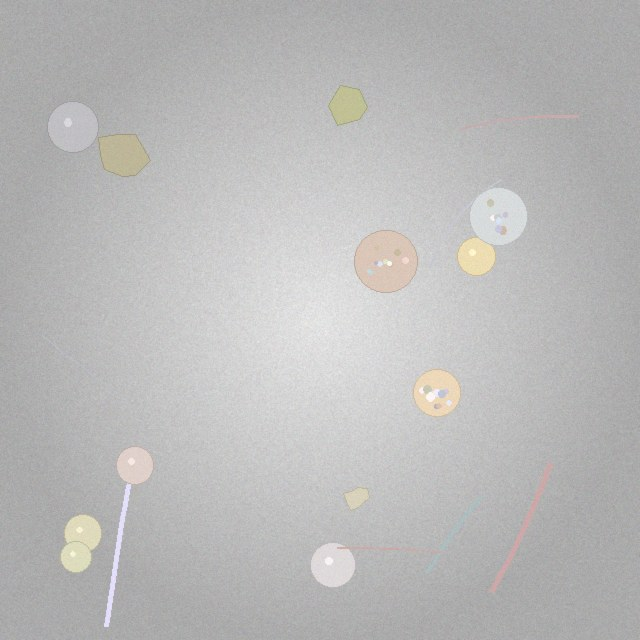fiber: (486, 458, 556, 598), (427, 177, 504, 271), (102, 459, 138, 632), (424, 493, 484, 576), (41, 334, 118, 395), (457, 113, 582, 133), (335, 545, 444, 554)
foam: (355, 231, 417, 293), (470, 187, 528, 245), (414, 370, 460, 417)
fragment: (99, 134, 150, 177), (329, 85, 367, 125), (344, 487, 369, 510)
pellet: (48, 102, 99, 153), (311, 543, 356, 588), (116, 446, 154, 484), (64, 515, 102, 552), (458, 237, 495, 275), (60, 541, 92, 573)
